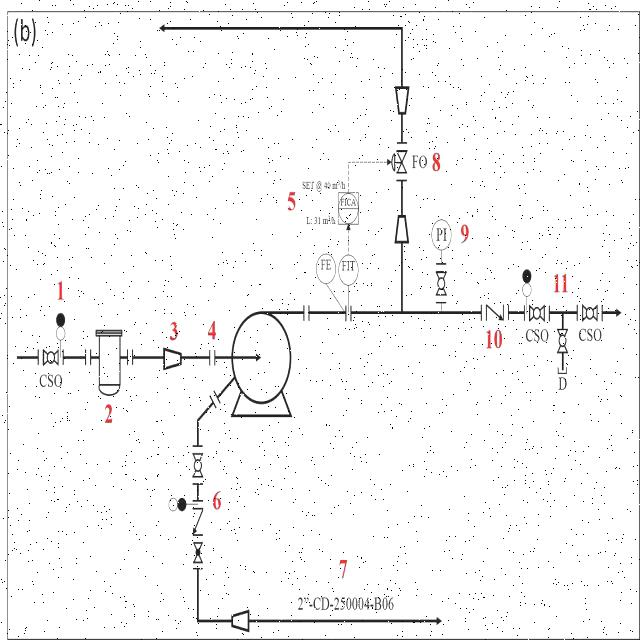Ball Valve: (555, 325, 570, 360), (432, 266, 448, 298), (41, 344, 60, 370), (526, 302, 546, 324), (578, 301, 598, 323), (190, 449, 205, 478)
Centrifugal Pump: (225, 304, 296, 426)
Check Valve: (188, 506, 204, 538), (483, 301, 506, 322)
Globe Valve: (190, 538, 209, 564)
Pneumatic-Diaphragm Gate Valve: (390, 144, 408, 176)
